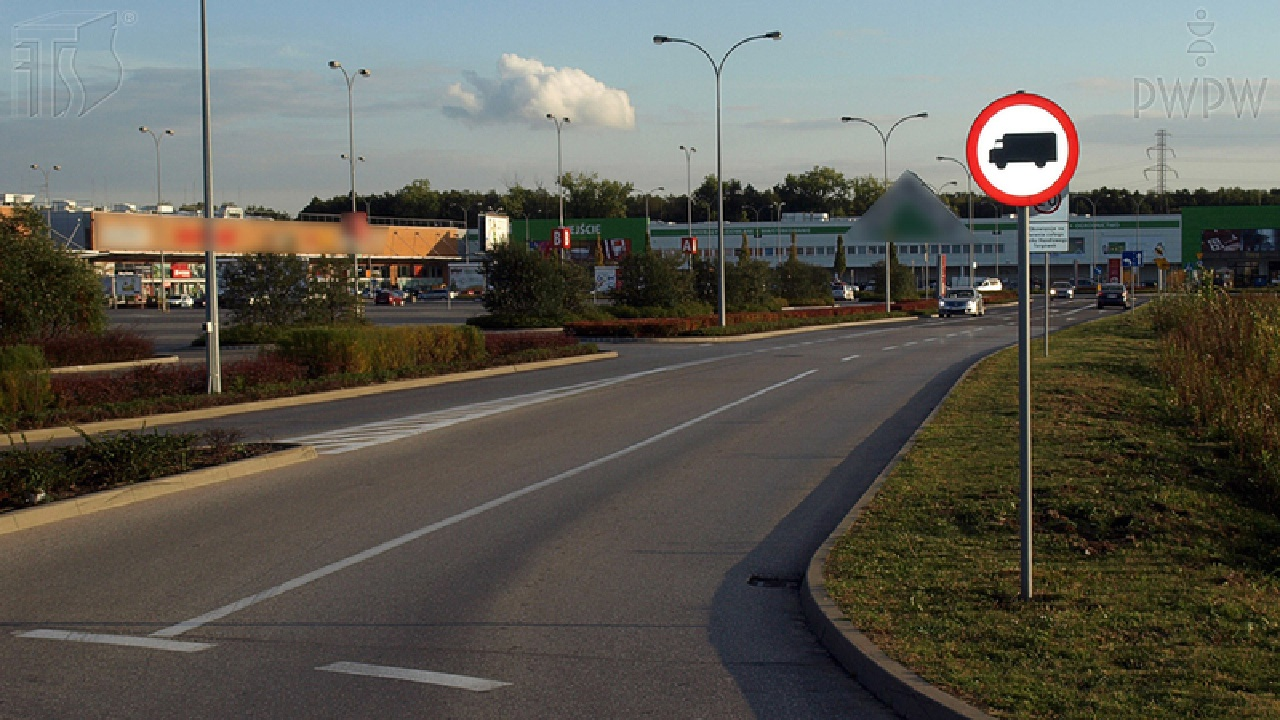B5: (965, 93, 1077, 208)
